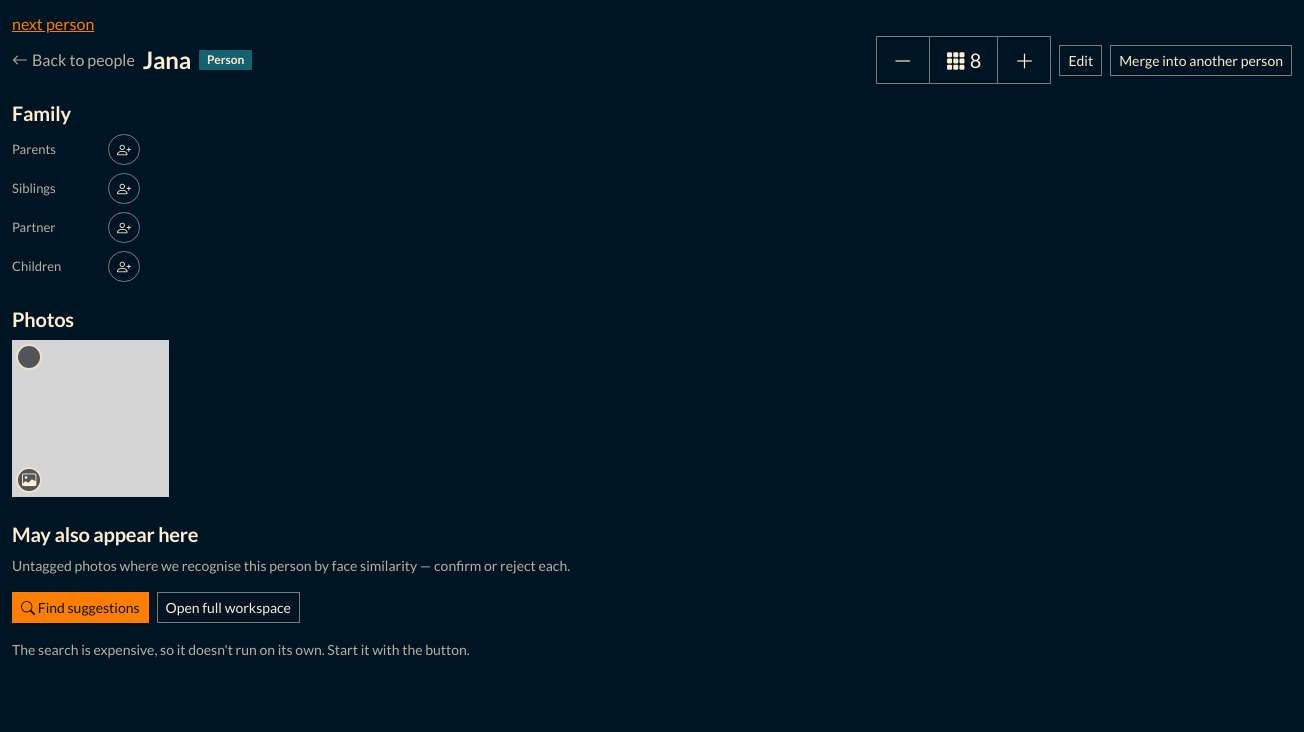
Test case: SubjectPage › offers a select checkmark on every tile, with no selection mode to enter
The image size is (1304, 732).
Click the button named "Select a.jpg": point(29, 357) [16,344,42,370]
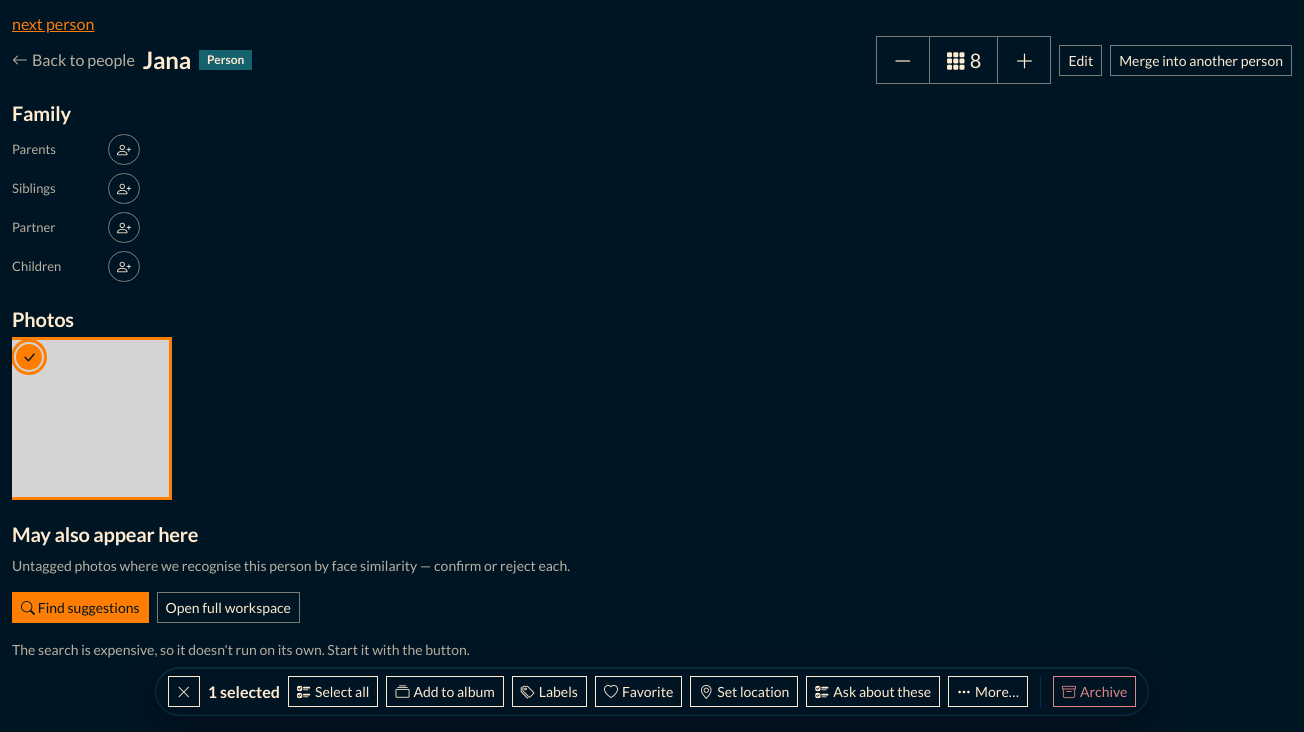
Now the text "1 selected" is shown, box [208,680,280,704]
Click the button "More…": point(988, 692) [948,676,1028,707]
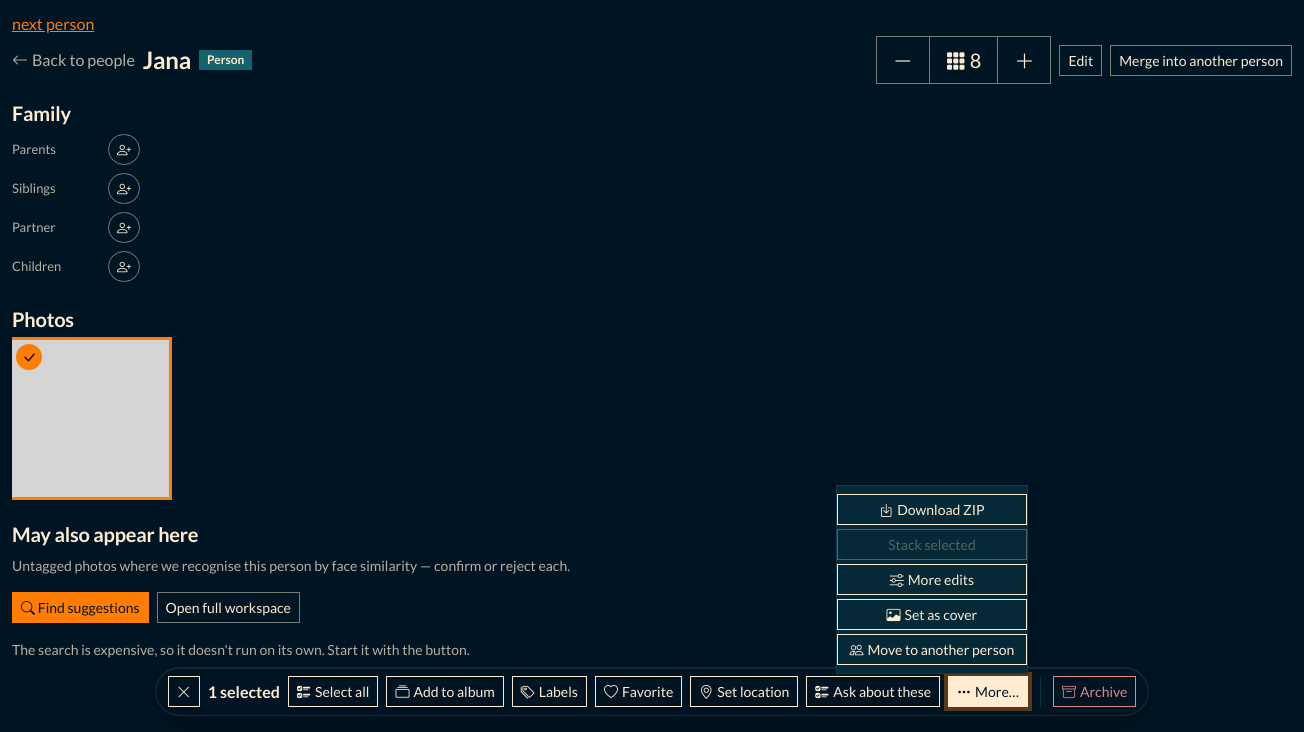
Now the button "More edits" is enabled, box [837,564,1027,595]
